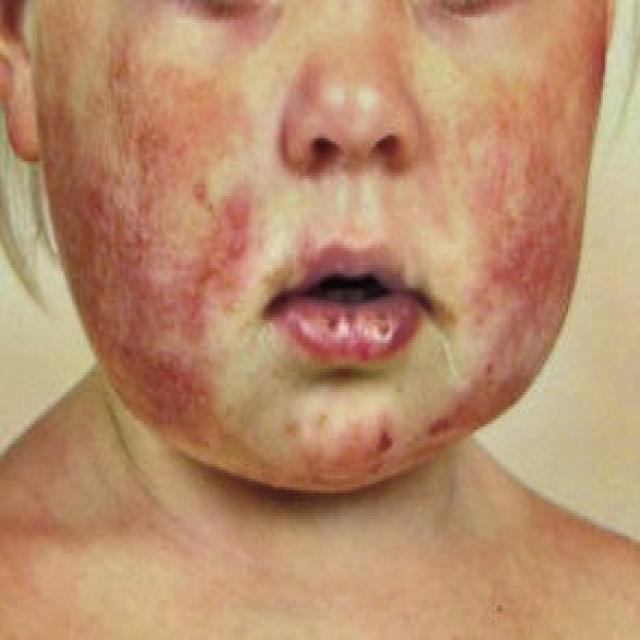Warts-Molluscum-and-other-Viral-Infections: (53, 41, 256, 447), (461, 74, 578, 427)
